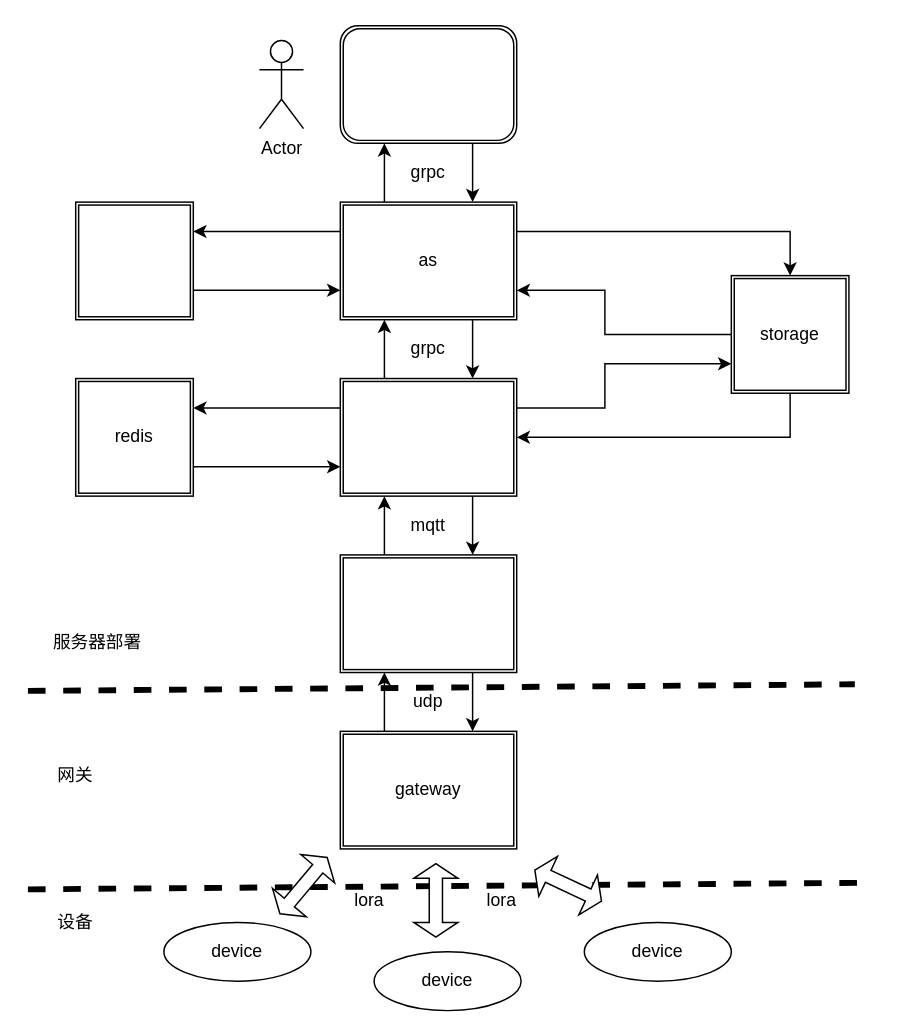
The diagram is 900 pixels wide and 1036 high, and some of its shapes have lost their labels. Here are the shapes that lost their labels. From the top down, the box of each, then its label:
(339, 24, 517, 143): ui
(74, 201, 193, 320): ftp-server
(339, 377, 517, 496): ns
(339, 553, 517, 673): gateway-bridge
